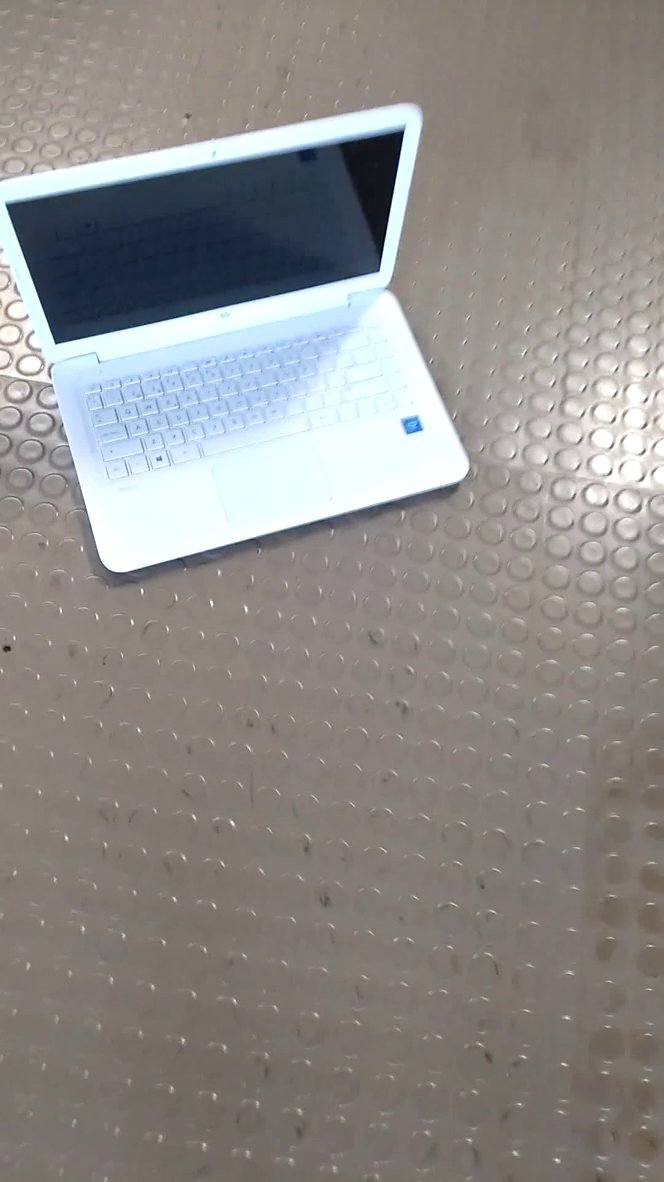laptop: (2, 94, 474, 586)
